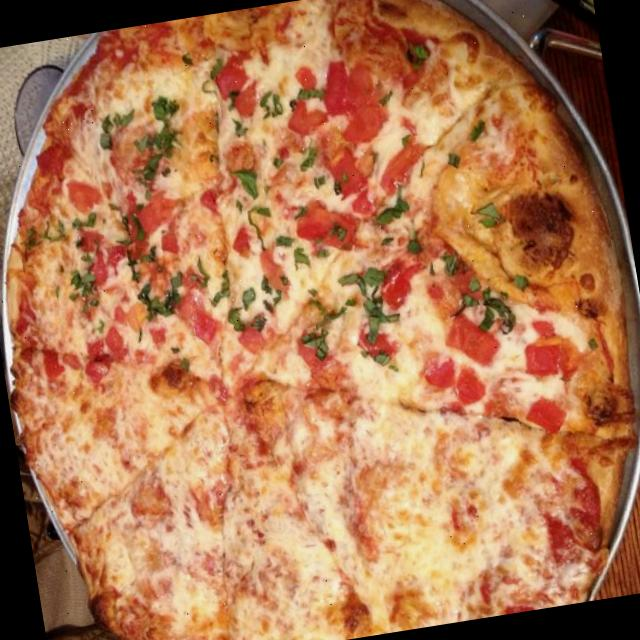pizza: (8, 0, 632, 640)
tomato: (309, 136, 385, 218), (364, 230, 434, 317), (110, 200, 174, 284), (311, 48, 383, 122), (46, 161, 120, 228), (370, 133, 438, 204), (285, 194, 368, 252), (202, 54, 268, 126), (85, 317, 156, 376), (514, 381, 576, 448), (508, 329, 576, 388), (175, 292, 238, 349), (124, 185, 180, 248), (442, 308, 501, 367), (332, 89, 396, 141), (422, 357, 479, 412), (224, 307, 275, 361), (143, 224, 193, 272), (280, 96, 324, 140), (218, 218, 258, 262), (180, 180, 230, 214), (80, 339, 114, 384)
